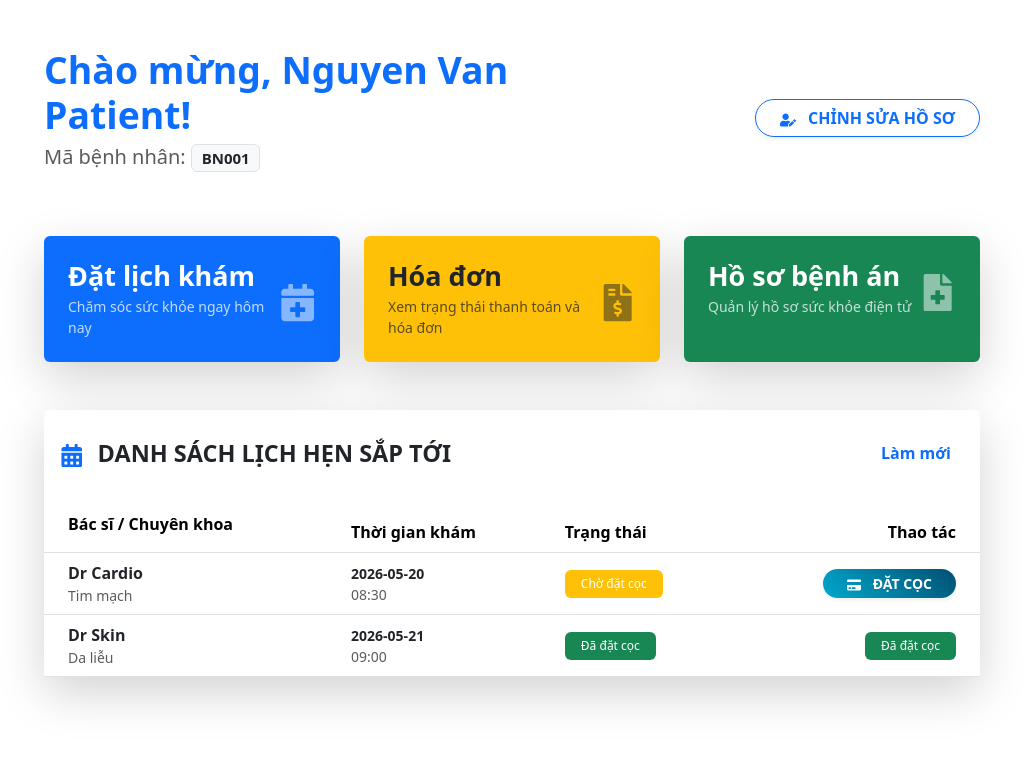
Scenario: PatientDashboard › pays appointment deposit and updates local status
This screenshot has width=1024, height=768.
Click the button "ĐẶT CỌC" at (890, 584), box x1=823 y1=569 x2=956 y2=598
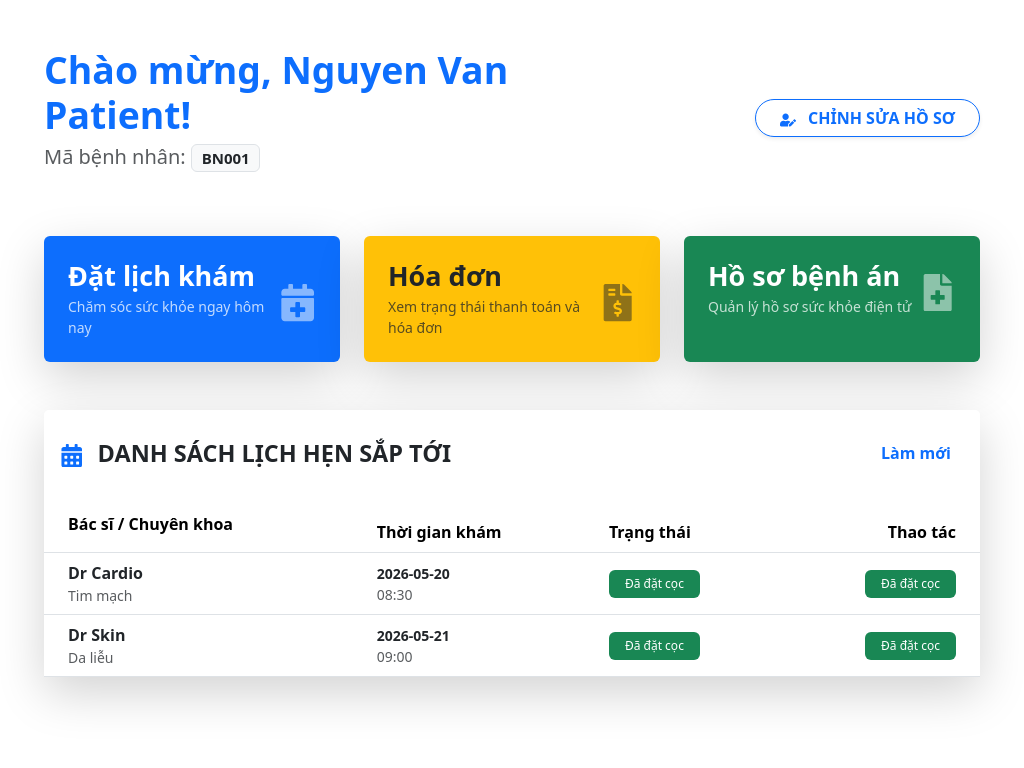
Now the 1st text "Đã đặt cọc" is shown, box x1=609 y1=570 x2=700 y2=598
